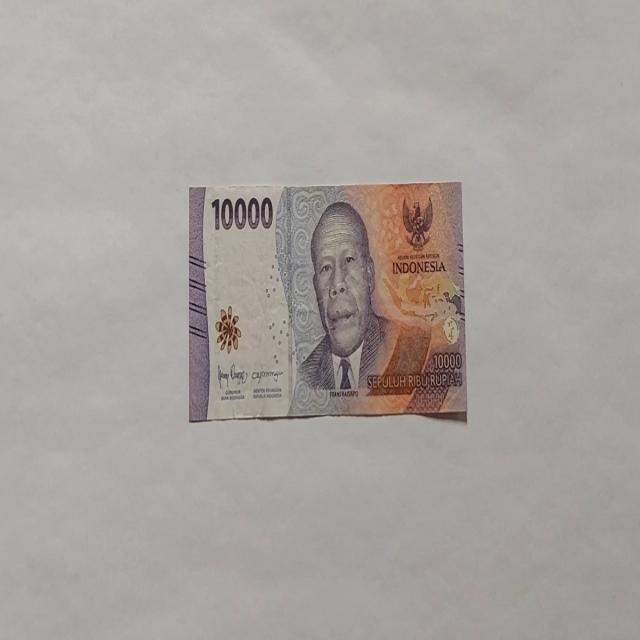sepuluh ribu rupiah: (188, 180, 468, 422)
